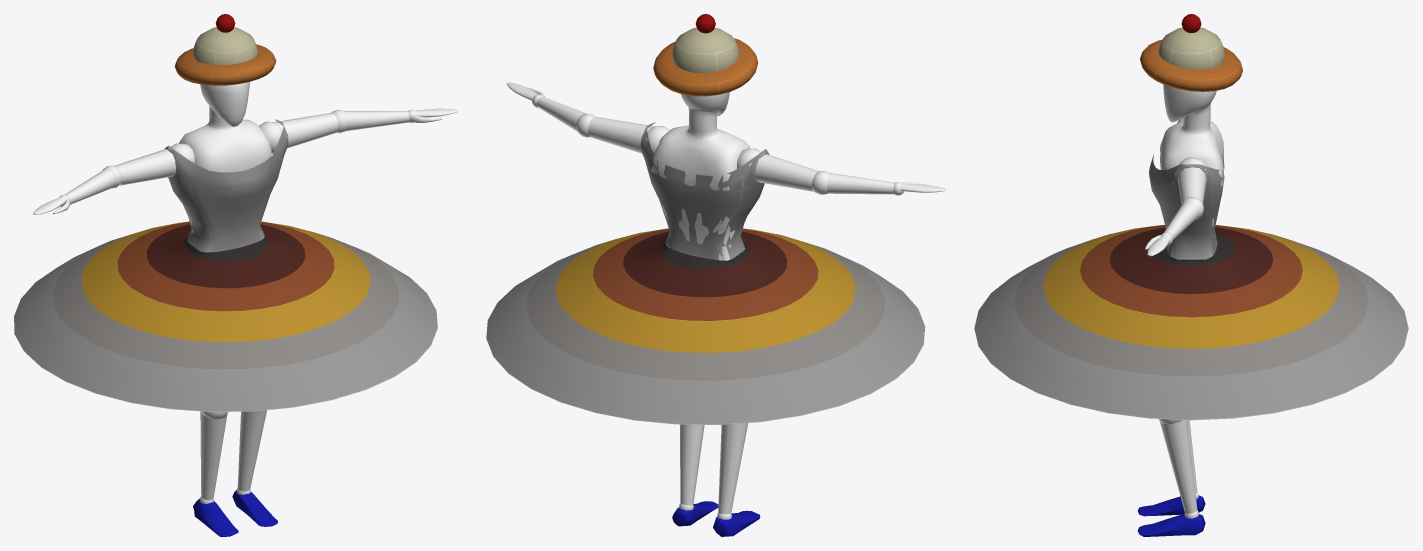
The model's file is CustomBG (1) (1).gltf.
3 renders of one model, left to right at view 1: azimuth 30°, elevation 25°; view 2: azimuth 150°, elevation 25°; view 3: azimuth 270°, elevation 25°, orthographic. The views are drawn at different scales.
Visible parts, largest first — view 1: CustomBG_1, BodyBG; view 2: CustomBG_1, BodyBG; view 3: CustomBG_1, BodyBG.
Part boxes in pixels (x1=…): CustomBG_1: x1=14, y1=14, x2=437, y2=536; BodyBG: x1=33, y1=82, x2=457, y2=503; CustomBG_1: x1=486, y1=14, x2=925, y2=536; BodyBG: x1=506, y1=82, x2=945, y2=519; CustomBG_1: x1=974, y1=14, x2=1408, y2=536; BodyBG: x1=1145, y1=44, x2=1223, y2=518.
Bounding box in the file's own units: 434 × 487 × 377.
2 materials, 1 textured.
